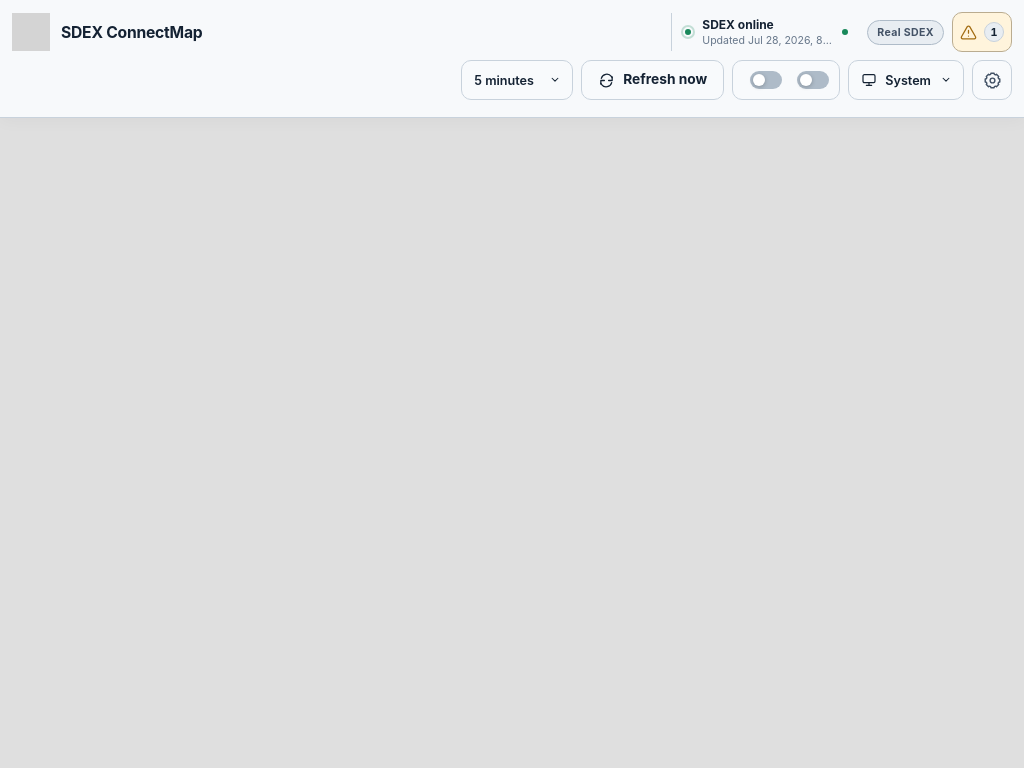
Test: top bar controls › keeps disabled TLS verification visible in the compact alarm centre
This screenshot has width=1024, height=768.
Step 1. Click the button named "Alarms, 1 active" → coordinates (982, 32), box left=952, top=12, right=1012, bottom=52
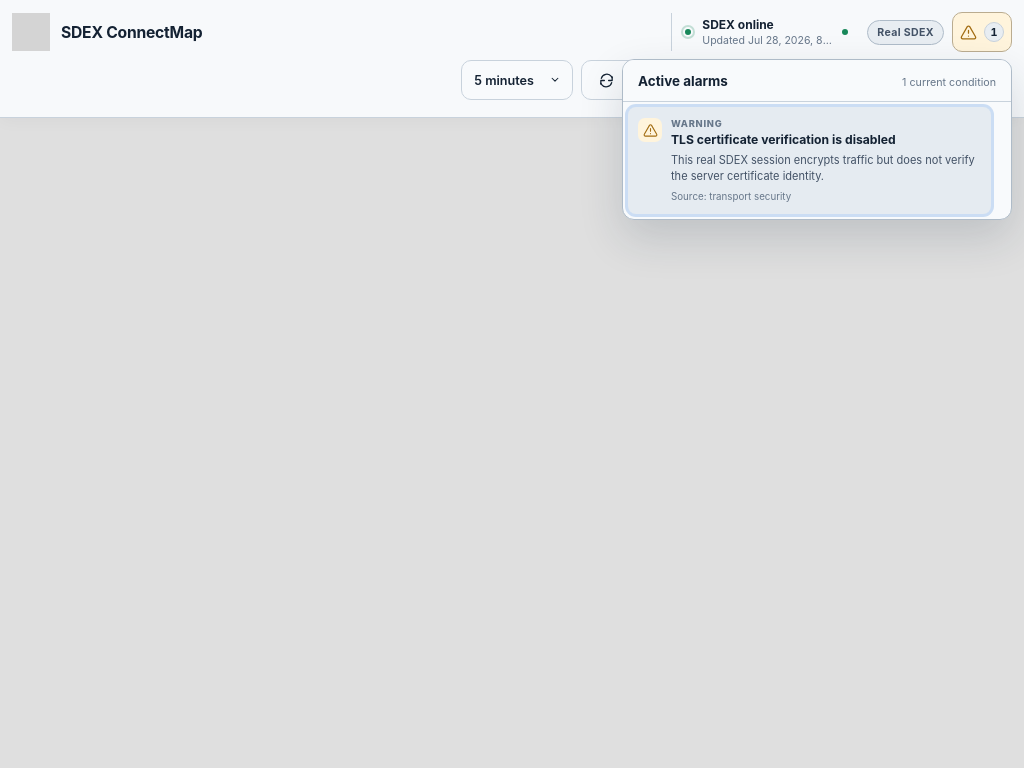
Expected: the text "TLS certificate verification is disabled" is shown, left=671, top=132, right=896, bottom=148
